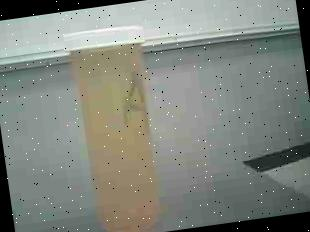Bottle A: (52, 15, 174, 232)
